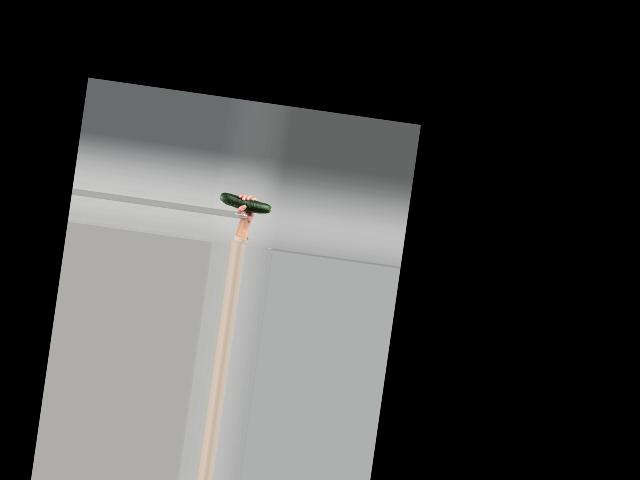cucumber: (218, 191, 271, 214)
